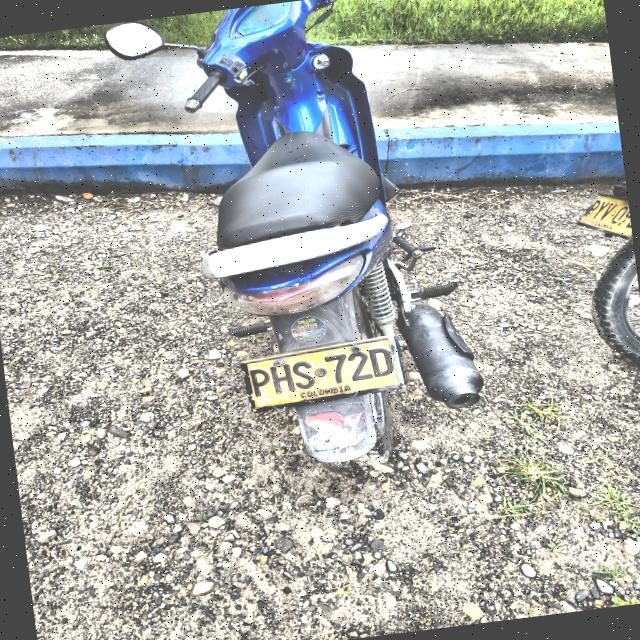2: (346, 350, 374, 382)
7: (322, 352, 349, 385)
D: (366, 345, 396, 378)
H: (267, 363, 297, 395)
P: (248, 366, 273, 398)
S: (289, 359, 316, 391)
